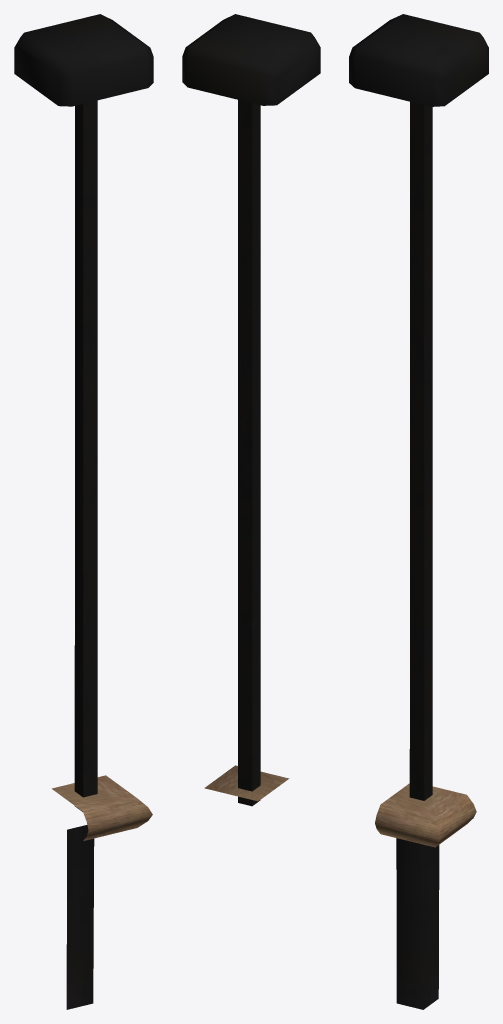
Rendered from SM_Banister_Corner_01.glb.
The picture shows the model from 3 angles, left to right: view 1: azimuth 30°, elevation 25°; view 2: azimuth 150°, elevation 25°; view 3: azimuth 330°, elevation 25°; orthographic projection.
Parts seen in each view (by area): view 1: SM_Banister_Corner_01; view 2: SM_Banister_Corner_01; view 3: SM_Banister_Corner_01.
Boxes of the visible parts, x1,y1,x2,y2 form: SM_Banister_Corner_01: (14, 14, 153, 1009); SM_Banister_Corner_01: (182, 14, 320, 806); SM_Banister_Corner_01: (349, 14, 488, 1009).
Size of the model in its own units: 0.1247 by 1.21 by 0.1178.
Materials: 1 (1 with a texture image).
